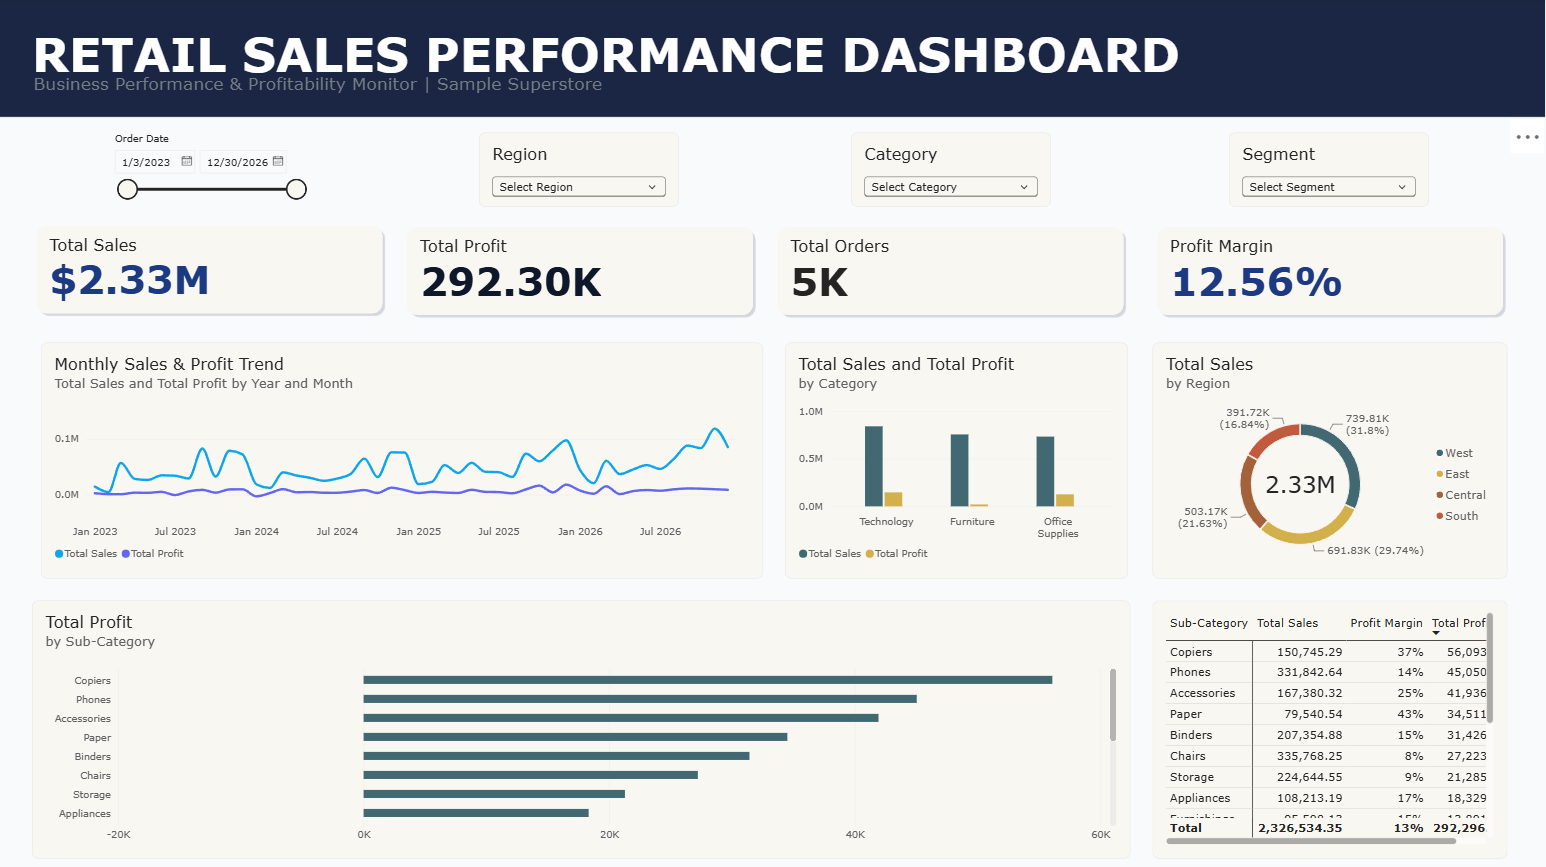

This screenshot's page, from the dashboard's own definition file:
{"tool":"powerbi","page":{"name":"Page 1","canvas":[1920,1080],"ordinal":0},"visuals":[{"type":"shape","box":[0,0,1920,150],"z":0},{"type":"textbox","box":[40,36,1610,116],"z":1000},{"type":"textbox","box":[43.3,95,760,55],"z":2000},{"type":"cardVisual","fields":{"Data":["Orders.Total Sales"]},"box":[40,279,440,120],"z":3000},{"type":"cardVisual","fields":{"Data":["Orders.Total Profit"]},"box":[500,280,440,120],"z":4000},{"type":"cardVisual","fields":{"Data":["Orders.Total Orders"]},"box":[960,280,440,120],"z":5000},{"type":"cardVisual","fields":{"Data":["Orders.Profit Margin"]},"box":[1430,280,440,120],"z":6000},{"type":"slicer","fields":{"Values":["Orders.Order Date"]},"box":[135.6,170,248.9,92.2],"z":7000},{"type":"listSlicer","fields":{"Values":["Orders.Region"]},"box":[596,169,248,92],"z":8000},{"type":"listSlicer","fields":{"Values":["Orders.Category"]},"box":[1056,170,248,92],"z":9000},{"type":"listSlicer","fields":{"Values":["Orders.Segment"]},"box":[1526,170,248,92],"z":10000},{"type":"lineChart","title":"Monthly Sales & Profit Trend","fields":{"Category":["Orders.Order Date.Variation.Date Hierarchy.Year","Orders.Order Date.Variation.Date Hierarchy.Month"],"Y":["Orders.Total Sales","Orders.Total Profit"]},"box":[52.5,430,895,292.5],"z":11000},{"type":"clusteredColumnChart","fields":{"Category":["Orders.Category"],"Y":["Orders.Total Sales","Orders.Total Profit"]},"box":[975,430,425,292.5],"z":12000},{"type":"donutChart","fields":{"Category":["Orders.Region"],"Y":["Orders.Total Sales"]},"box":[1430,430,440,292.5],"z":13000},{"type":"clusteredBarChart","fields":{"Category":["Orders.Sub-Category"],"Y":["Orders.Total Profit"]},"box":[40,750,1362,320],"z":14000},{"type":"pivotTable","fields":{"Rows":["Orders.Sub-Category"],"Values":["Orders.Total Sales","Orders.Profit Margin","Orders.Total Profit"]},"box":[1430,750,440,320],"z":15000}]}

Visuals, with their boxes in screenshot pixels (x1, y1, x2, y2), scaled from the page's 1920x1080 canvas onto the 1546x867 screenshot:
shape: bbox=[0, 0, 1545, 120]
textbox: bbox=[32, 29, 1329, 122]
textbox: bbox=[35, 76, 647, 120]
cardVisual - Orders.Total Sales: bbox=[32, 224, 386, 320]
cardVisual - Orders.Total Profit: bbox=[403, 225, 757, 321]
cardVisual - Orders.Total Orders: bbox=[773, 225, 1127, 321]
cardVisual - Orders.Profit Margin: bbox=[1151, 225, 1506, 321]
slicer - Orders.Order Date: bbox=[109, 136, 310, 210]
listSlicer - Orders.Region: bbox=[480, 136, 680, 210]
listSlicer - Orders.Category: bbox=[850, 136, 1050, 210]
listSlicer - Orders.Segment: bbox=[1229, 136, 1428, 210]
"Monthly Sales & Profit Trend" lineChart: bbox=[42, 345, 763, 580]
clusteredColumnChart - Orders.Category x Orders.Total Sales: bbox=[785, 345, 1127, 580]
donutChart - Orders.Region x Orders.Total Sales: bbox=[1151, 345, 1506, 580]
clusteredBarChart - Orders.Sub-Category x Orders.Total Profit: bbox=[32, 602, 1129, 859]
pivotTable - Orders.Sub-Category x Orders.Total Sales: bbox=[1151, 602, 1506, 859]
